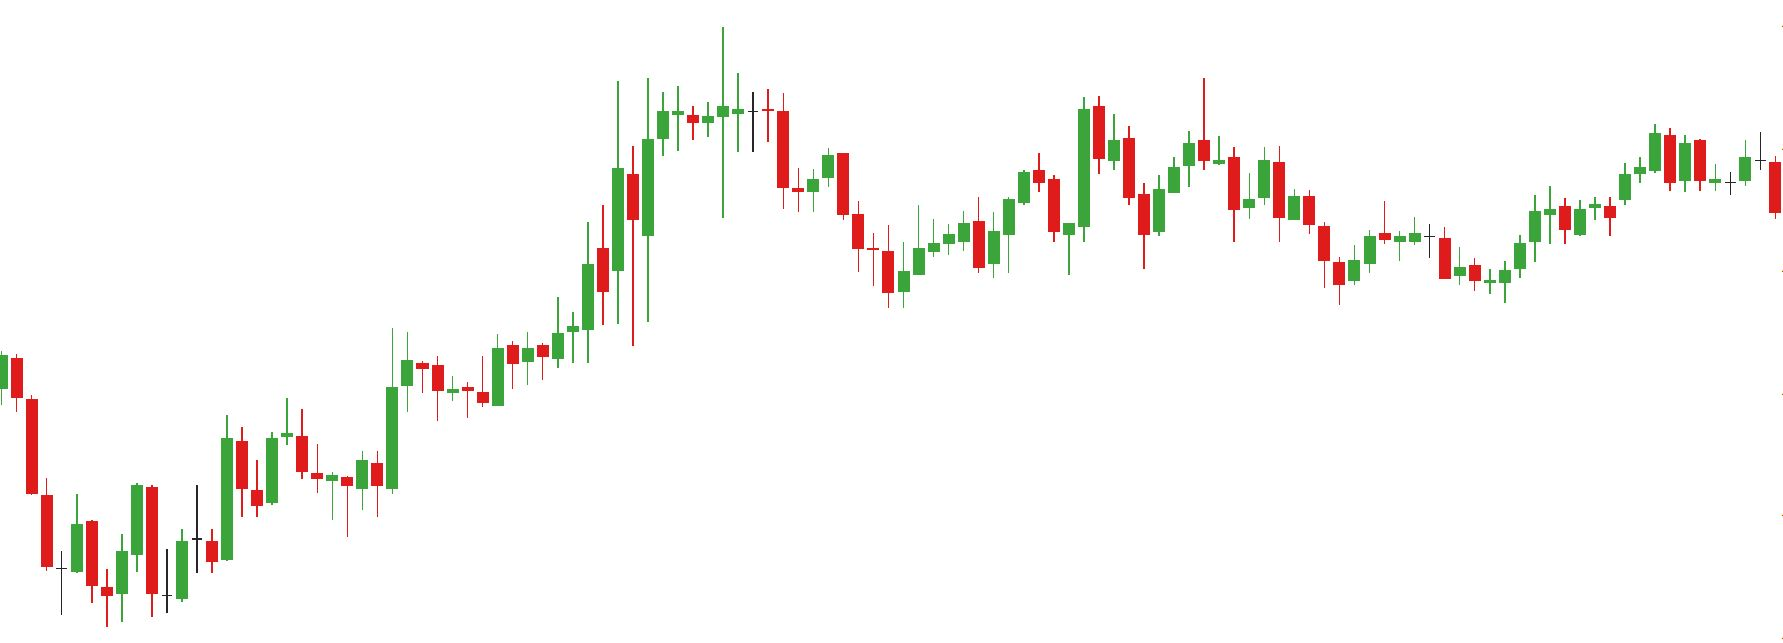buy: (249, 444, 354, 546)
sell: (1076, 74, 1213, 228)
